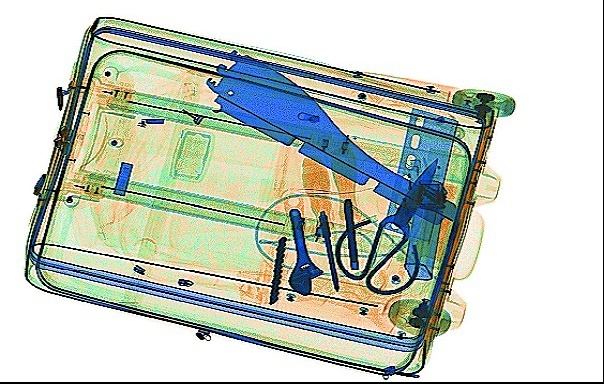scissors: (334, 156, 438, 294)
zippooil: (402, 176, 447, 282)
